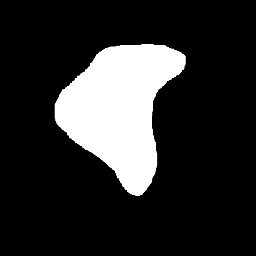mass: (55, 36, 188, 180)
